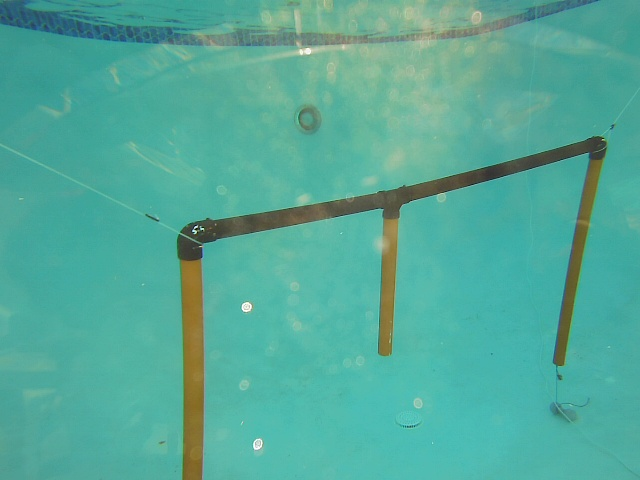Gate: (551, 154, 606, 367), (177, 254, 206, 480), (376, 214, 402, 357)
